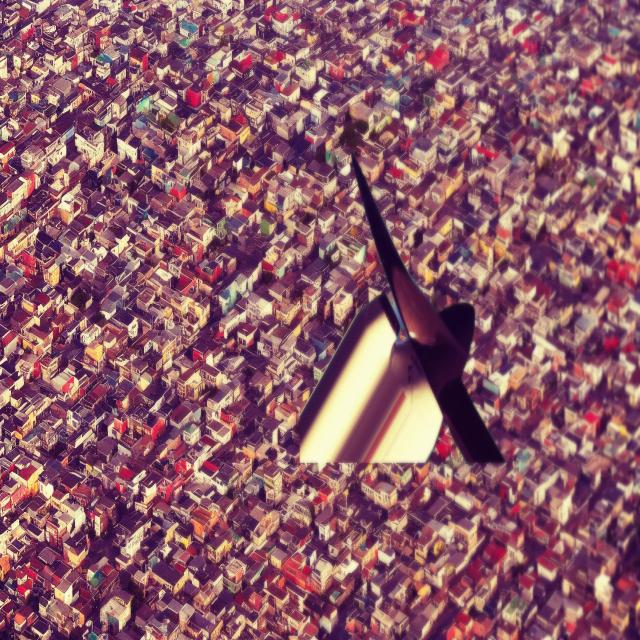airplane: (296, 148, 506, 470)
